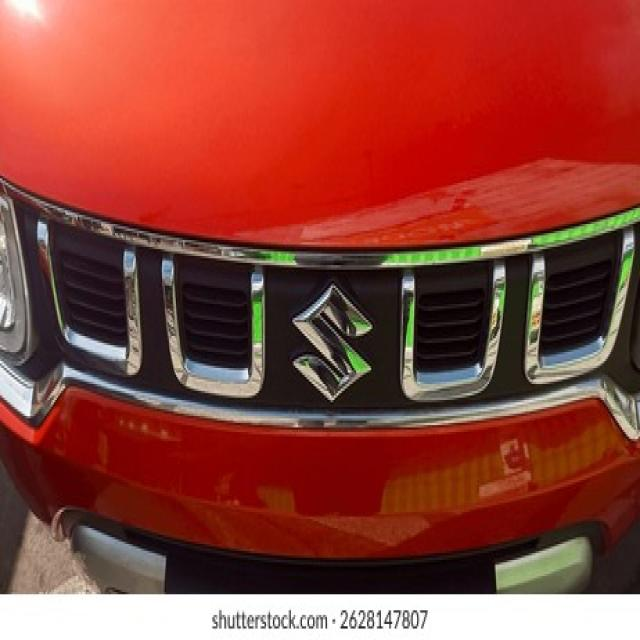suzuki: (287, 280, 380, 412)
